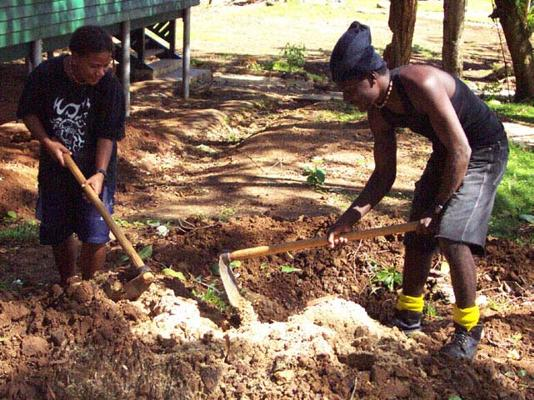person: (322, 22, 513, 372)
